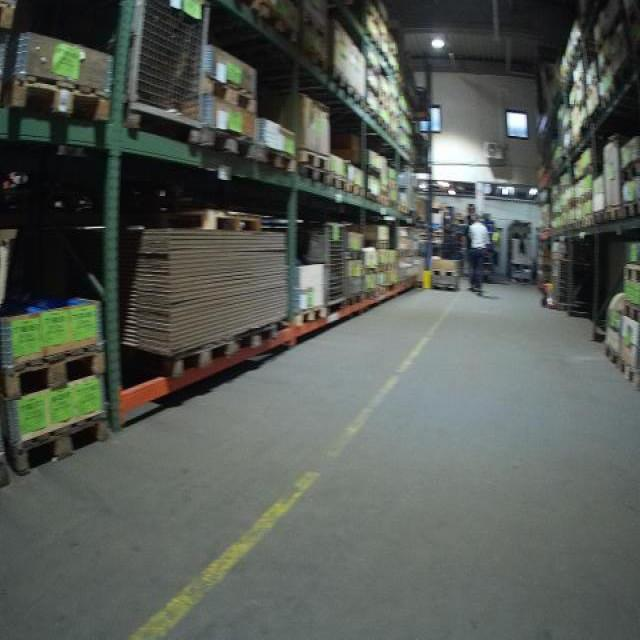pallet: (1, 341, 110, 403), (12, 409, 114, 475), (5, 76, 110, 121), (162, 333, 238, 382), (200, 74, 258, 113), (199, 127, 259, 159), (232, 322, 282, 356), (259, 4, 300, 44), (171, 215, 260, 231), (257, 141, 296, 174), (294, 305, 327, 329), (296, 148, 329, 170), (297, 163, 328, 186), (618, 358, 636, 385), (621, 263, 640, 284), (622, 161, 640, 183), (602, 345, 619, 367), (604, 205, 623, 224), (623, 301, 640, 322), (623, 200, 640, 221), (329, 175, 347, 193), (430, 267, 457, 278), (430, 282, 458, 292)
pallet_truck: (535, 238, 557, 314)
stillage: (111, 2, 217, 160), (294, 215, 346, 315), (550, 252, 593, 311)
